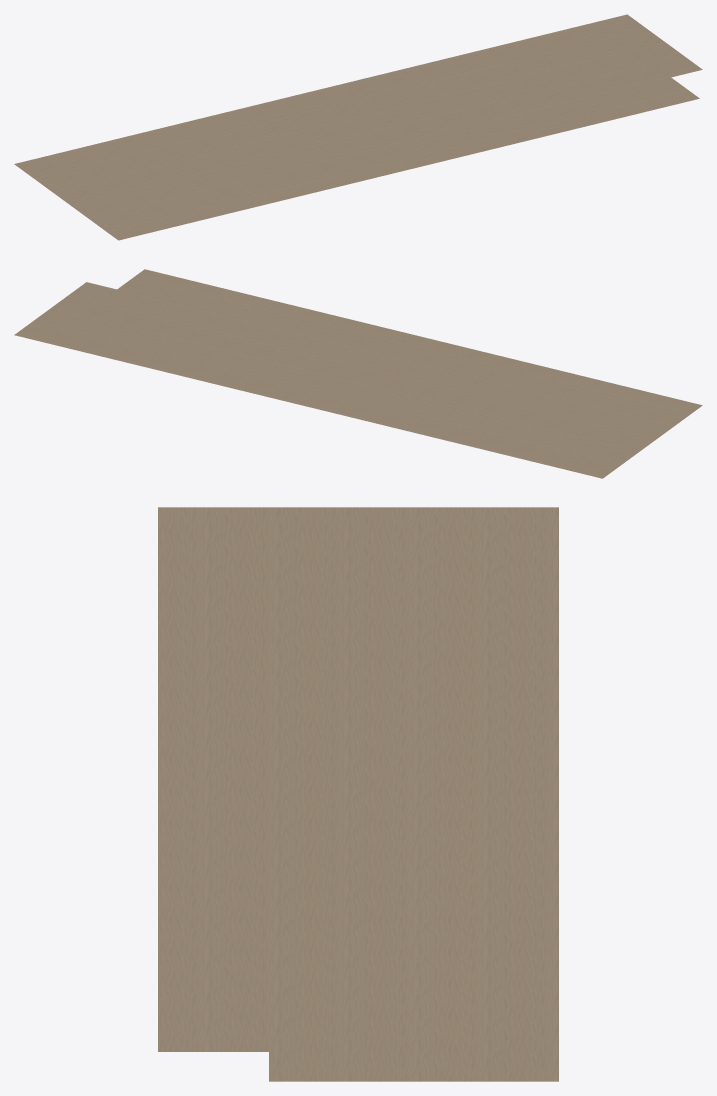
File: kd_stage_135b75_4_2_bounded_portal_piece_3.glb
3 views of the same model, one above another, from view 1: azimuth 30°, elevation 25°; view 2: azimuth 150°, elevation 25°; view 3: azimuth 270°, elevation 25° (orthographic). The views are drawn at different scales.
Visible parts, largest first — view 1: kd_stage_135b75_4_2_bounded_portal_piece_3; view 2: kd_stage_135b75_4_2_bounded_portal_piece_3; view 3: kd_stage_135b75_4_2_bounded_portal_piece_3.
Boxes of the visible parts, bbox=[...] form: kd_stage_135b75_4_2_bounded_portal_piece_3: bbox=[14, 14, 702, 240]; kd_stage_135b75_4_2_bounded_portal_piece_3: bbox=[14, 269, 702, 478]; kd_stage_135b75_4_2_bounded_portal_piece_3: bbox=[158, 507, 558, 1081].
Bounding box in the file's own units: 2 × 1.49e-07 × 0.59.
Materials: 1 (1 with a texture image).
